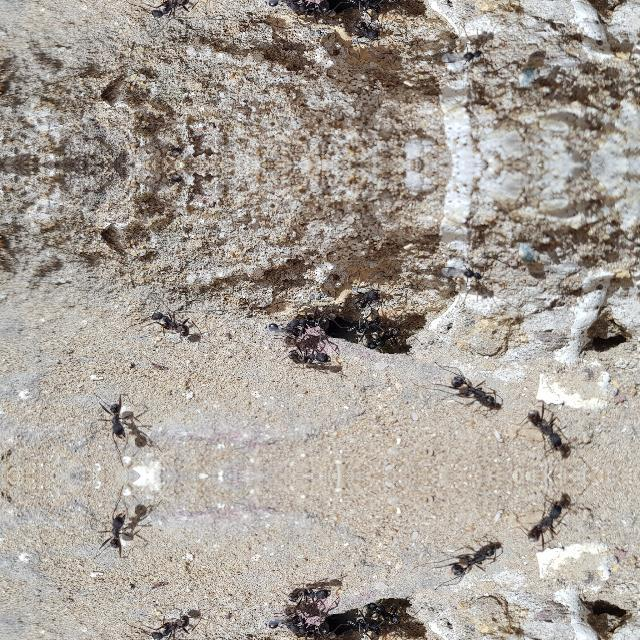Apheanogaster: (514, 398, 590, 464), (514, 486, 590, 552), (88, 392, 162, 453), (88, 497, 162, 558), (432, 366, 510, 408), (432, 542, 510, 584), (137, 306, 199, 339), (282, 345, 344, 375), (137, 610, 199, 640), (282, 575, 344, 605), (285, 308, 339, 334), (285, 616, 339, 640), (360, 324, 406, 352), (360, 598, 406, 626), (137, 0, 199, 20), (351, 281, 385, 313), (351, 15, 385, 47), (454, 260, 494, 286), (454, 42, 494, 68), (341, 313, 383, 337), (262, 317, 310, 338), (341, 613, 383, 637), (285, 0, 339, 18), (262, 612, 310, 632), (341, 0, 383, 14), (262, 0, 308, 10)
